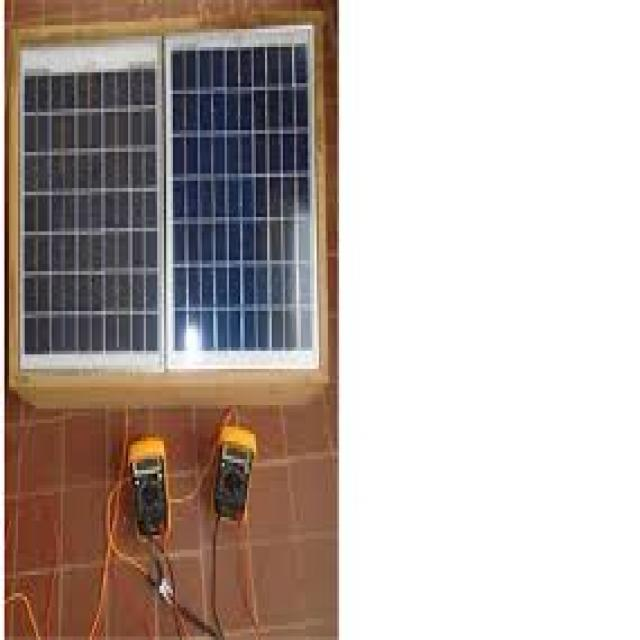no faulty: (162, 50, 322, 365), (12, 41, 166, 358)
